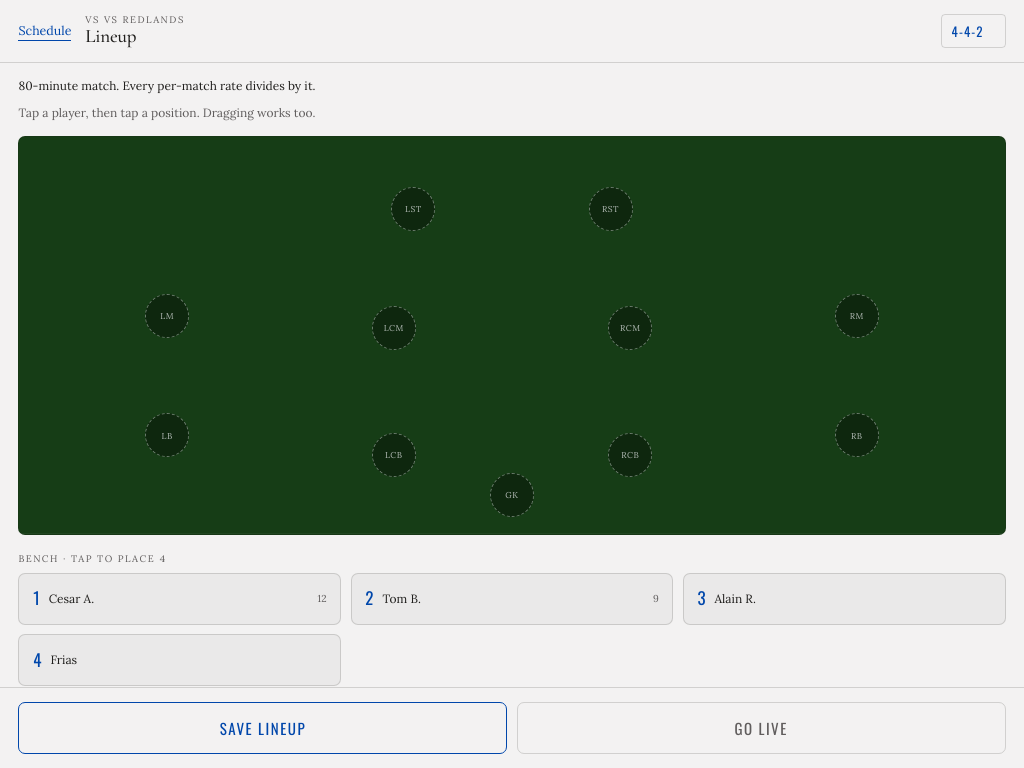
Test: the player cards › shows the grade as a year
Click the button "2 Tom B. 9".
click(402, 599)  # box [350,572,674,624]
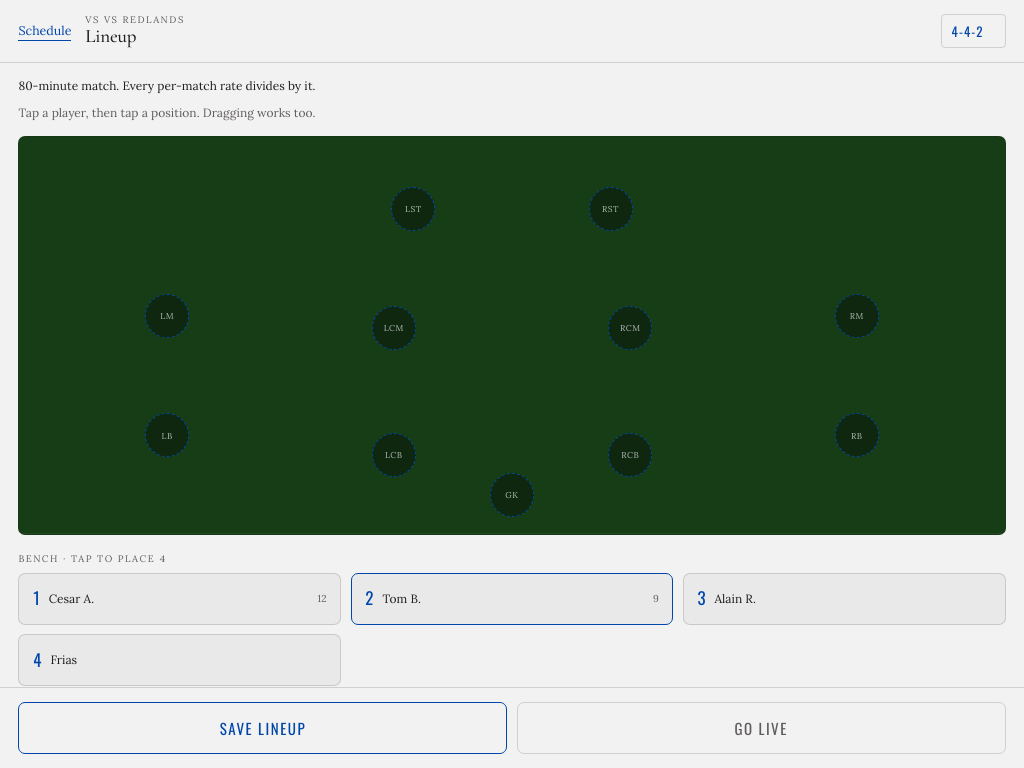
Click the element showing "GK".
click(512, 495)  # box [490,473,534,517]
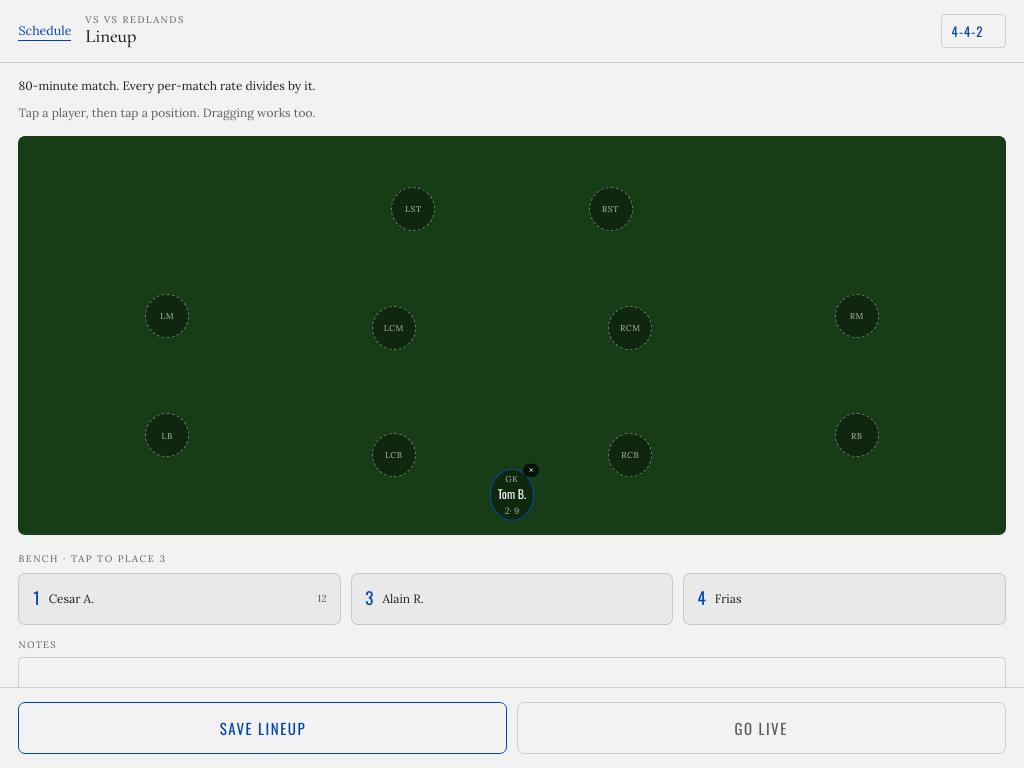
expect the text "· 9" is shown: met, box [509,505,519,516]
